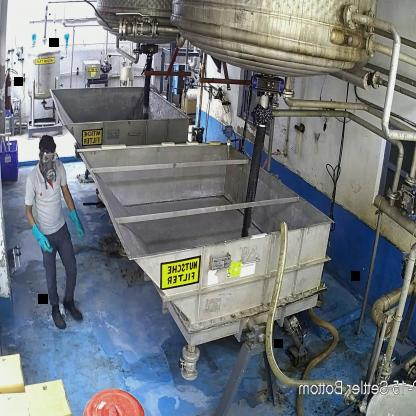glove: (30, 222, 54, 256), (68, 209, 89, 240)
goggles: (40, 149, 59, 165)
mask: (40, 159, 59, 181)
shoes: (61, 296, 88, 323), (48, 302, 67, 333)
